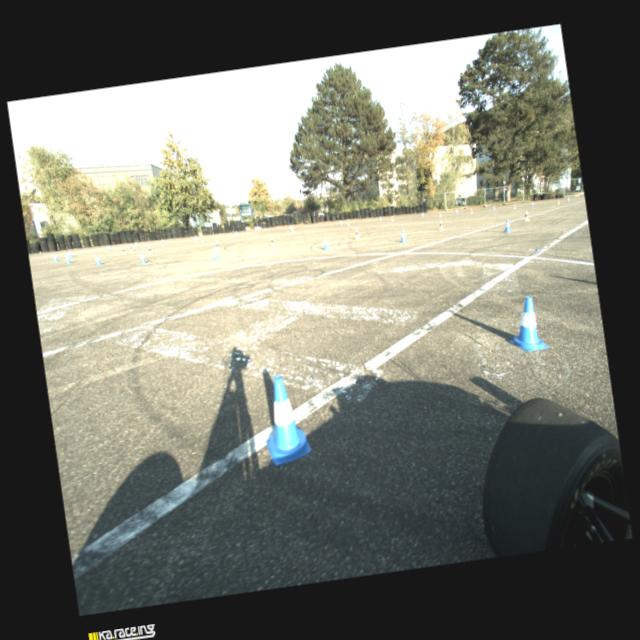blue_cone: (258, 373, 312, 466), (502, 295, 550, 354), (502, 218, 512, 232), (398, 228, 408, 242), (210, 247, 220, 260), (322, 236, 330, 250), (94, 253, 102, 266), (138, 252, 146, 264), (64, 253, 72, 264), (52, 253, 59, 262), (68, 250, 74, 258), (106, 244, 112, 252), (134, 242, 138, 248), (566, 196, 570, 202), (288, 224, 292, 230), (235, 230, 238, 237), (194, 236, 198, 240), (379, 216, 382, 221), (455, 209, 458, 214), (492, 206, 495, 210), (532, 200, 534, 206), (162, 238, 164, 244), (422, 212, 424, 217), (340, 220, 342, 224)
yellow_cone: (524, 210, 530, 222), (354, 228, 360, 240), (438, 220, 445, 230), (270, 237, 276, 248), (214, 241, 220, 251), (147, 245, 153, 255), (120, 247, 126, 256), (128, 244, 134, 252), (161, 240, 166, 247), (346, 219, 350, 226), (512, 203, 516, 210), (200, 236, 204, 242), (290, 226, 294, 232), (438, 211, 442, 217), (470, 208, 474, 214), (230, 232, 233, 238), (391, 216, 394, 222), (557, 198, 560, 204)
